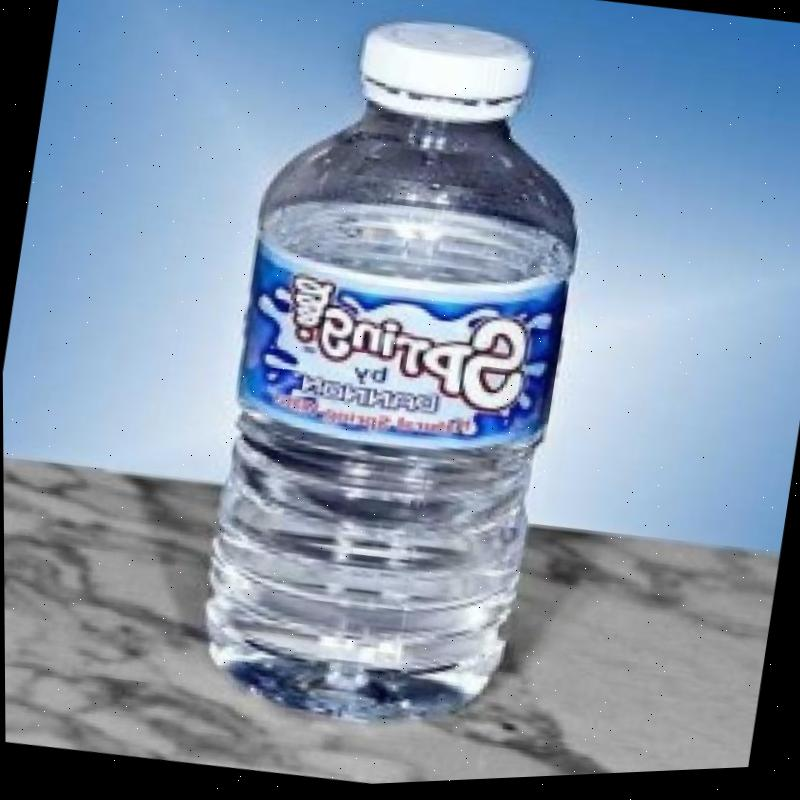botella: (178, 0, 622, 751)
